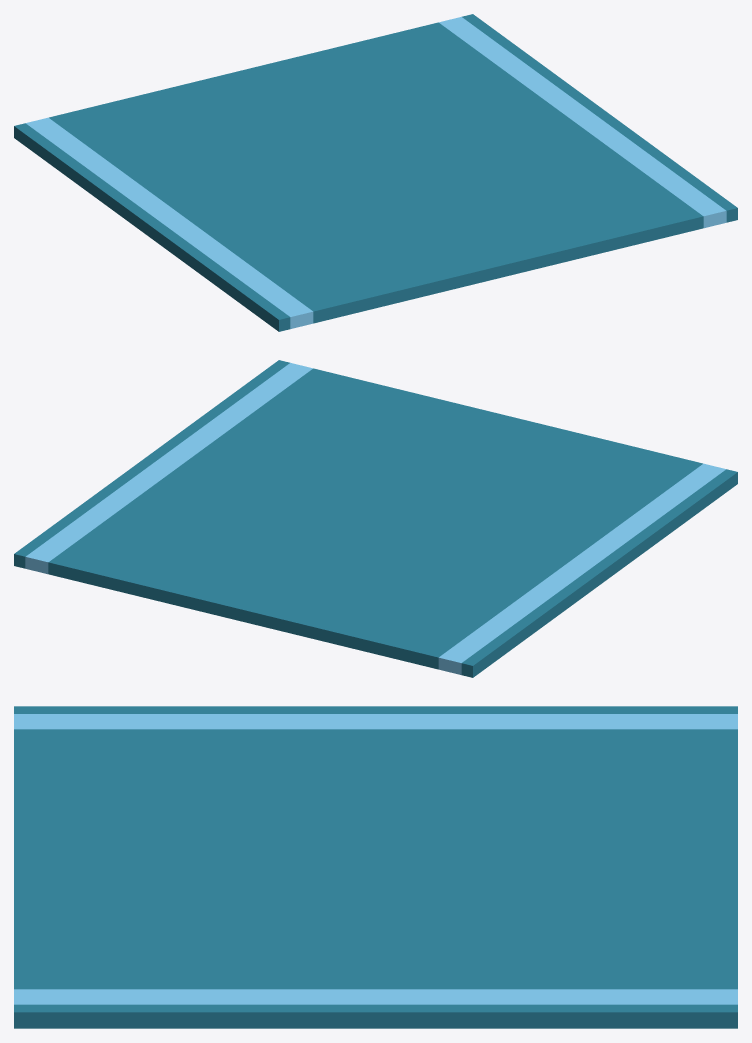
The model's file is ceiling-labs.obj.
3 views of the same model, one above another, from view 1: azimuth 30°, elevation 25°; view 2: azimuth 150°, elevation 25°; view 3: azimuth 270°, elevation 25° (orthographic). The views are drawn at different scales.
Bounding box in the file's own units: 4 × 0.1 × 4.
Materials: 1 (1 with a texture image).
